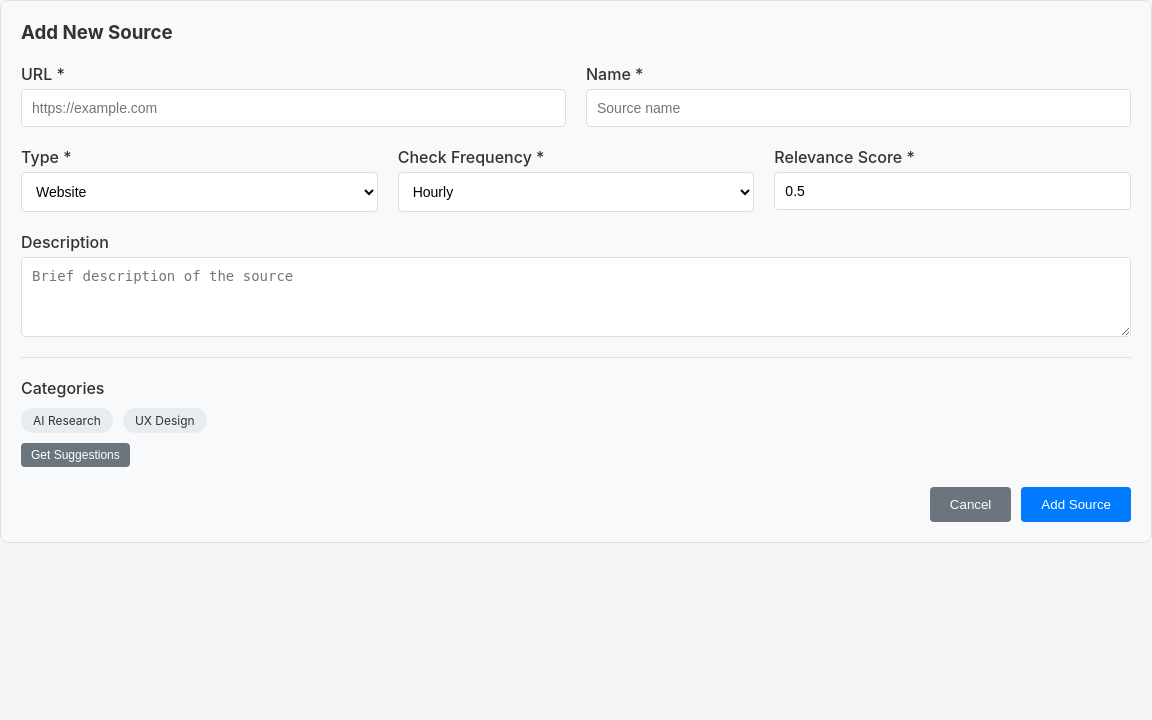
Scenario: SourceForm › validates required fields
Step 1. Click the button "Add Source" → x=1076, y=504, box [1021,487,1131,522]
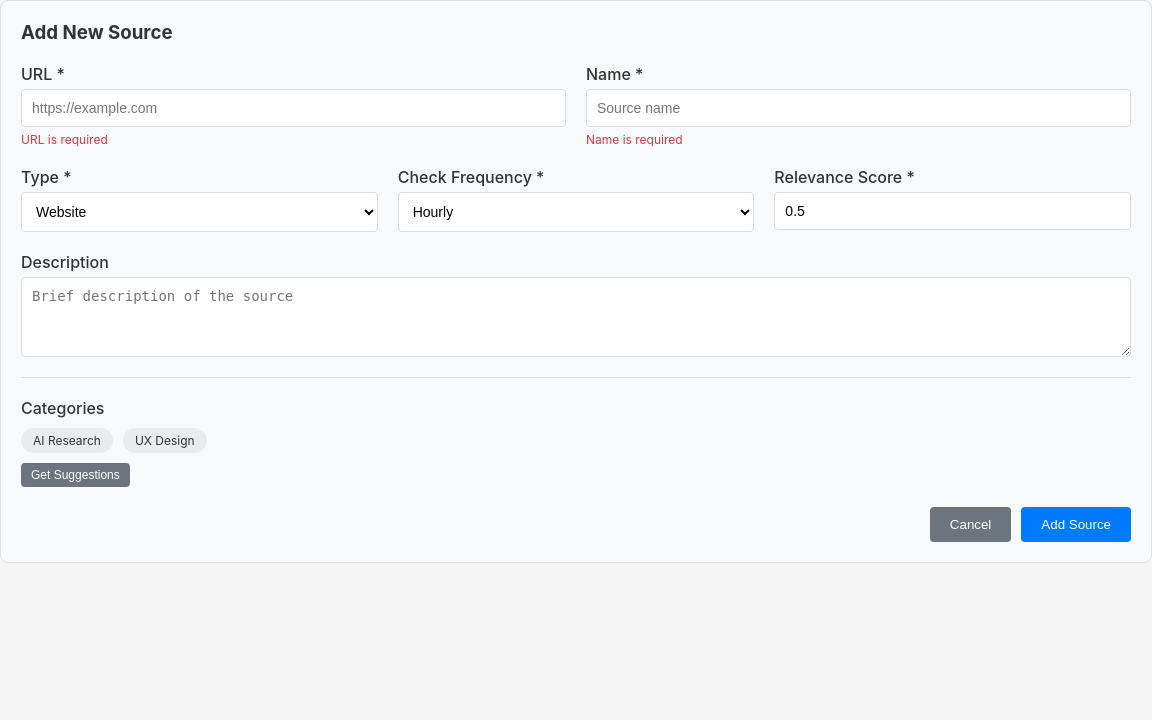
Now the text "URL is required" is shown, box [21,132,108,147]
Now the text "Name is required" is shown, box [586,132,683,147]
